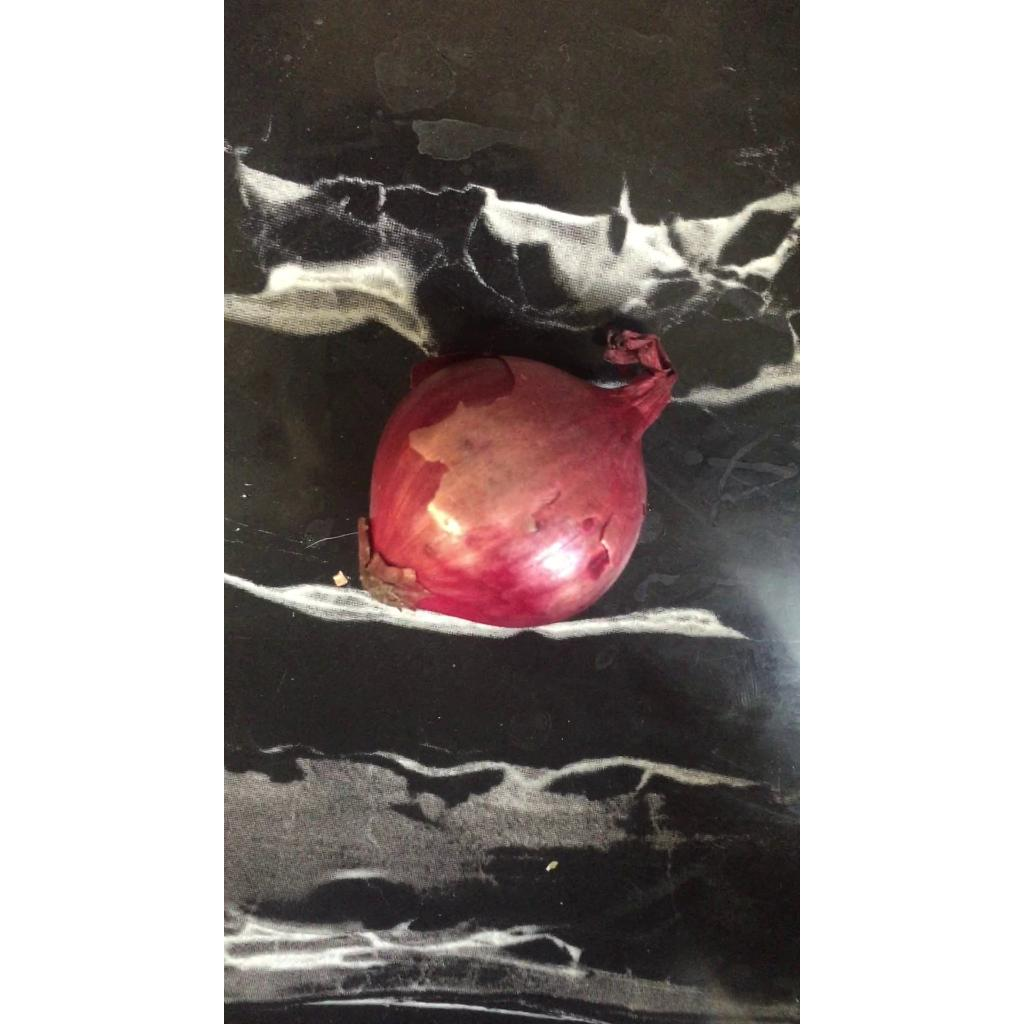Onion: (358, 330, 677, 628)
